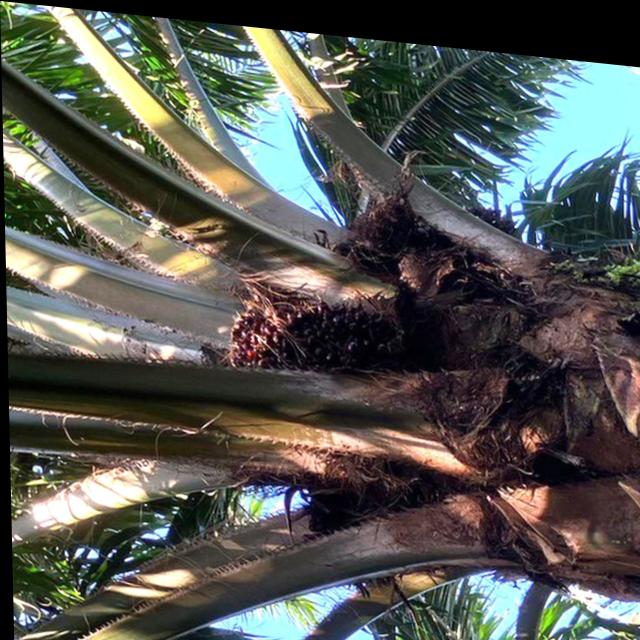ripe: (206, 273, 416, 403)
